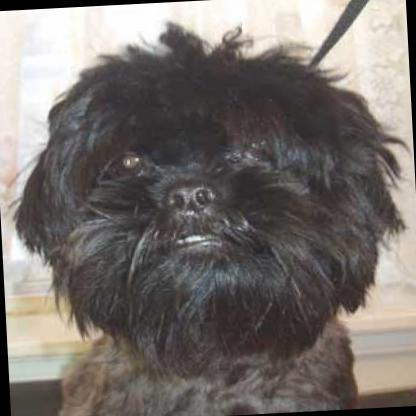affenpinscher: (0, 7, 416, 416)
